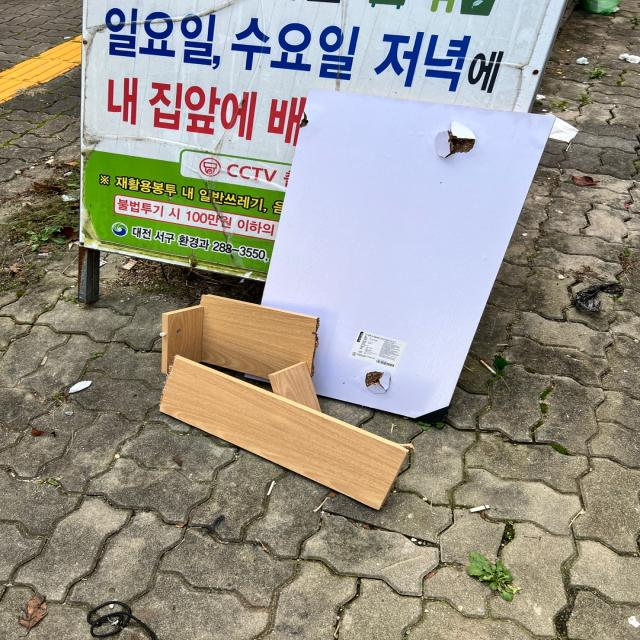Large Waste Items: (264, 91, 553, 421), (154, 292, 432, 502)
